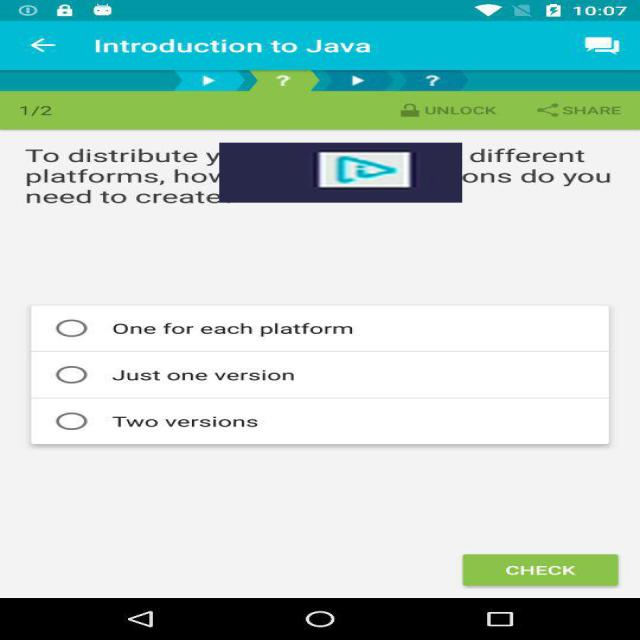sneaking: (219, 142, 462, 202)
